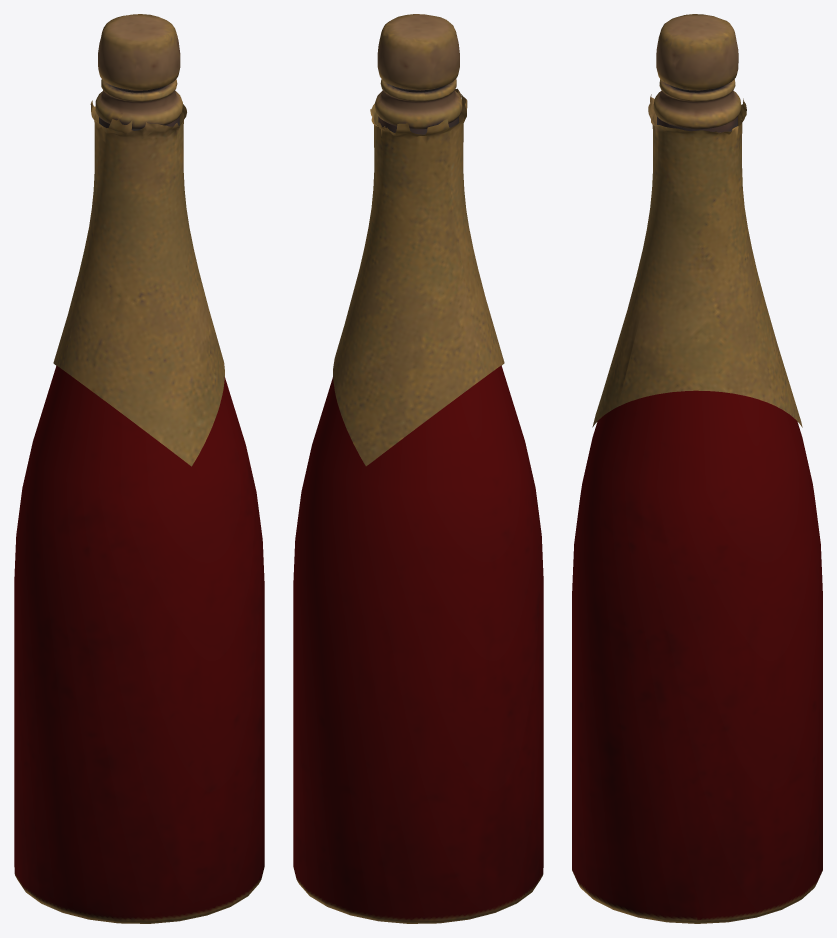
File: SM_Bottle3.FBX
3 views of the same model, side by side, from view 1: azimuth 30°, elevation 25°; view 2: azimuth 150°, elevation 25°; view 3: azimuth 270°, elevation 25° (orthographic).
Visible parts, largest first — view 1: SM_Bottle3; view 2: SM_Bottle3; view 3: SM_Bottle3.
Part boxes in pixels (<box>): SM_Bottle3: <box>14,14,264,923</box>; SM_Bottle3: <box>293,14,543,923</box>; SM_Bottle3: <box>572,14,822,923</box>.
Size of what is drawn, in the model's own units: 13.01 by 13.04 by 48.61.
